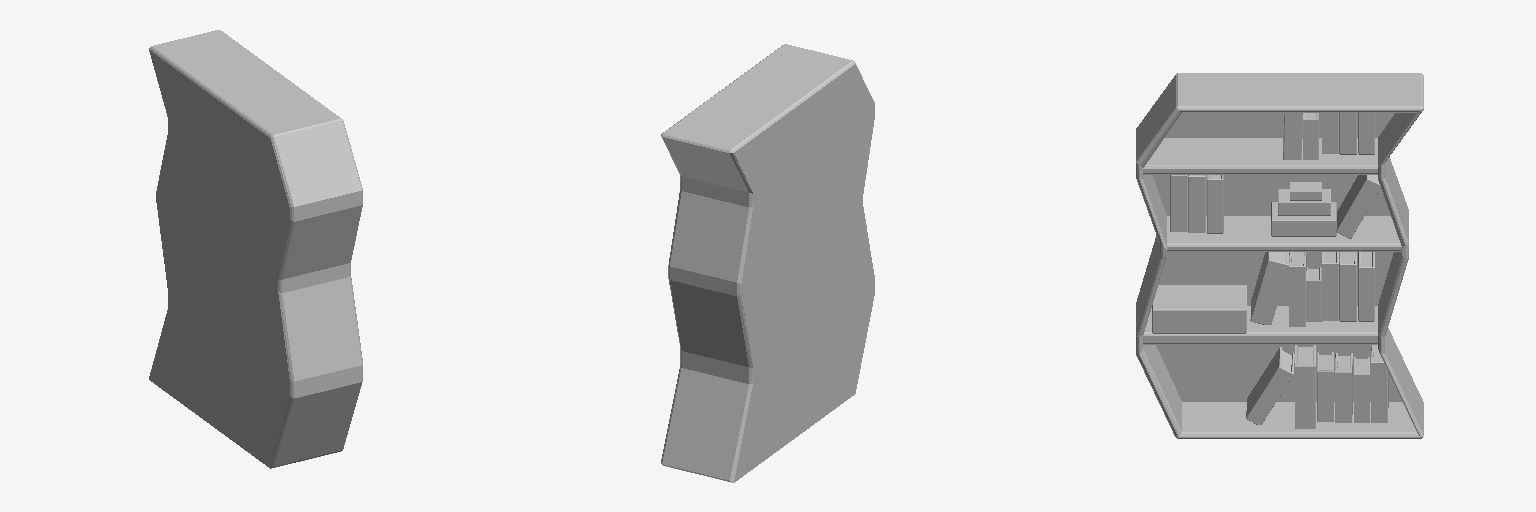
File: shelf with books.obj
3 views of the same model, side by side, from view 1: azimuth 30°, elevation 25°; view 2: azimuth 150°, elevation 25°; view 3: azimuth 270°, elevation 25° (orthographic).
Visible parts, largest first — view 1: shelf; view 2: shelf; view 3: shelf, book_og_uv2, book18, book_combineed1, book_combineed, book_combineed2, book_og_uv1, book11, book16, book_og_uv3, book10, book_og_uv4 (+5 smaller).
Boxes of the visible parts, <box> form: shelf: <box>149,30,362,468</box>; shelf: <box>661,44,874,482</box>; shelf: <box>1136,73,1423,438</box>; book_og_uv2: <box>1317,345,1388,422</box>; book18: <box>1152,285,1246,333</box>; book_combineed1: <box>1322,252,1374,321</box>; book_combineed: <box>1170,175,1223,233</box>; book_combineed2: <box>1322,113,1374,154</box>; book_og_uv1: <box>1246,347,1294,424</box>; book11: <box>1250,252,1288,324</box>; book16: <box>1295,345,1315,428</box>; book_og_uv3: <box>1336,175,1380,238</box>; book10: <box>1271,202,1336,236</box>; book_og_uv4: <box>1289,252,1306,326</box>.
Bounding box in the file's own units: 1.59 × 6.94 × 5.45.